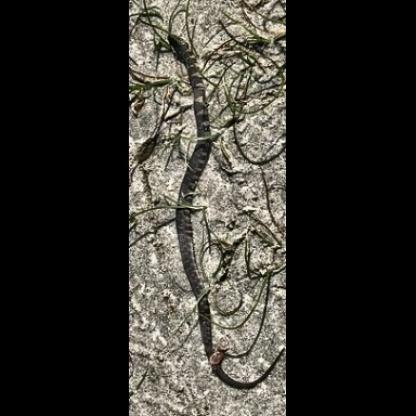Snake: (149, 16, 278, 400)
